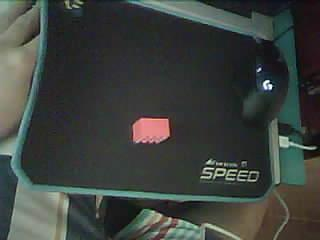lego: (132, 117, 170, 144)
